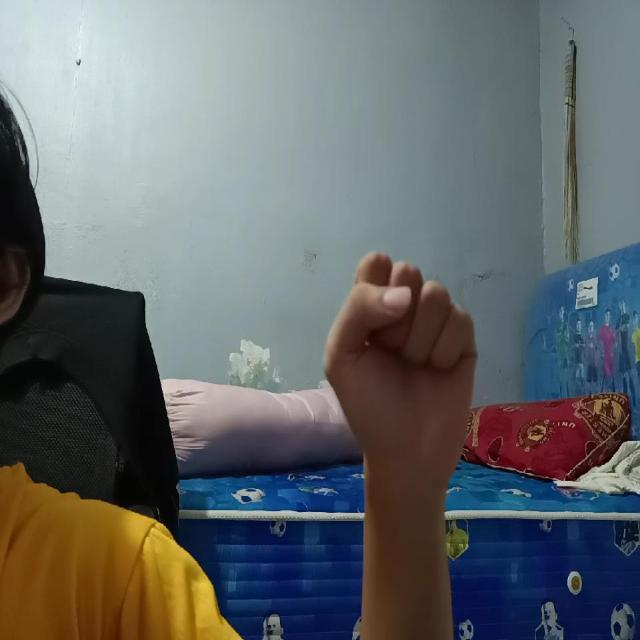fist: (324, 258, 472, 454)
